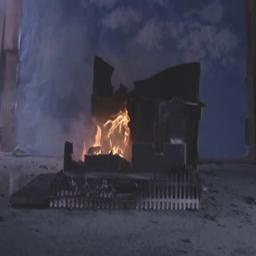fire: (79, 98, 146, 165)
smoke: (7, 2, 250, 92)
